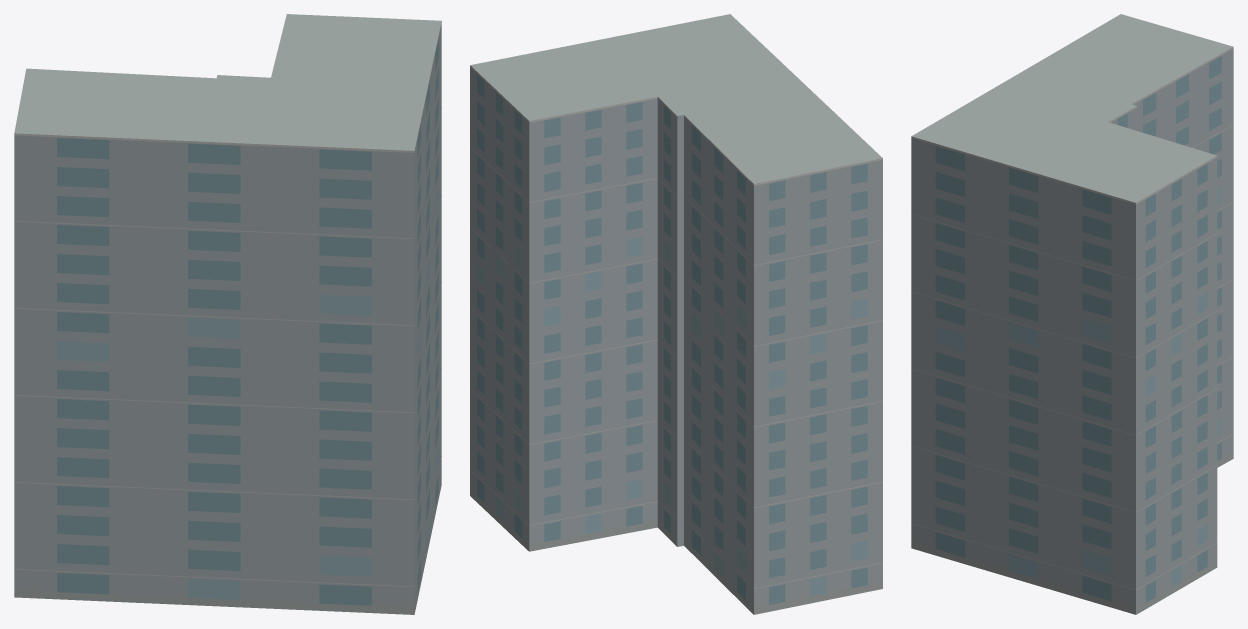
Rendered from survey-upis-32791541.glb.
3 views of the same model, side by side, from view 1: azimuth 30°, elevation 25°; view 2: azimuth 150°, elevation 25°; view 3: azimuth 270°, elevation 25° (orthographic). The views are drawn at different scales.
Visible parts, largest first — view 1: survey-upis-32791541.tmp; view 2: survey-upis-32791541.tmp; view 3: survey-upis-32791541.tmp.
Boxes of the visible parts, x1,y1,x2,y2 form: survey-upis-32791541.tmp: [14, 14, 441, 614]; survey-upis-32791541.tmp: [470, 14, 882, 614]; survey-upis-32791541.tmp: [911, 14, 1233, 614].
Size of the model in its own units: 53.22 by 54.1 by 38.37.
